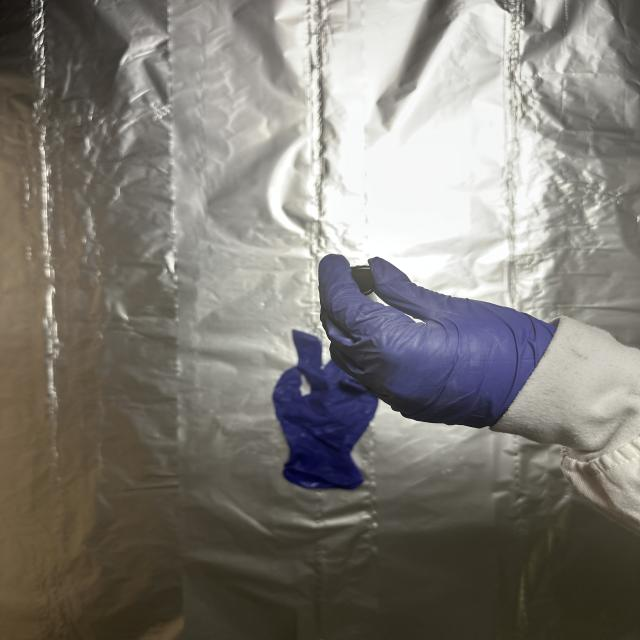gloves_contaminated: (319, 255, 555, 428)
